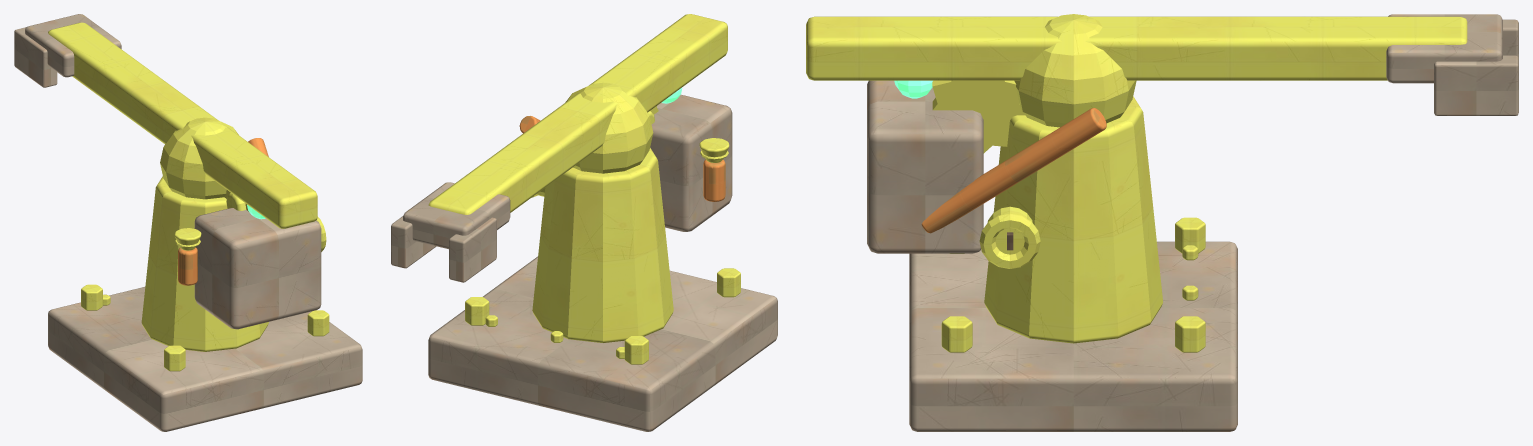
File: ff-inserter.glb
The picture shows the model from 3 angles, left to right: view 1: azimuth 30°, elevation 25°; view 2: azimuth 150°, elevation 25°; view 3: azimuth 270°, elevation 25°; orthographic projection. The views are drawn at different scales.
Parts seen in each view (by area): view 1: Base.002, Arm.002, Motor, Bolt.010, Pivot, ArmTip, Claw, Hose; view 2: Base.002, Bolt.010, Arm.002, Motor, Pivot, ArmTip, Claw, Claw.001, Hose; view 3: Base.002, Bolt.010, Arm.002, Motor, Pivot, Hose, Claw.001, ArmTip, GaugeBezel.
Boxes of the visible parts, x1,y1,x2,y2 form: Base.002: (48,287,362,431); Arm.002: (48,22,317,228); Motor: (194,208,321,329); Bolt.010: (81,176,329,371); Pivot: (160,117,246,210); ArmTip: (25,14,121,77); Claw: (14,27,57,87); Hose: (178,138,268,285); Base.002: (428,256,777,431); Bolt.010: (465,106,740,364); Arm.002: (428,14,727,214); Motor: (650,94,732,231); Pivot: (565,82,654,173); ArmTip: (403,182,510,249); Claw: (449,217,496,282); Claw.001: (391,216,436,268); Hose: (519,116,725,201); Base.002: (909,241,1237,431); Bolt.010: (932,80,1205,352); Arm.002: (806,16,1467,80); Motor: (867,80,983,253); Pivot: (1014,14,1136,127); Hose: (921,108,1106,233); Claw.001: (1434,55,1518,115); ArmTip: (1386,14,1502,83); GaugeBezel: (979,213,1040,268).
Bounding box in the file's own units: 0.62 × 0.72 × 1.34.
Materials: 9 (7 with a texture image).
